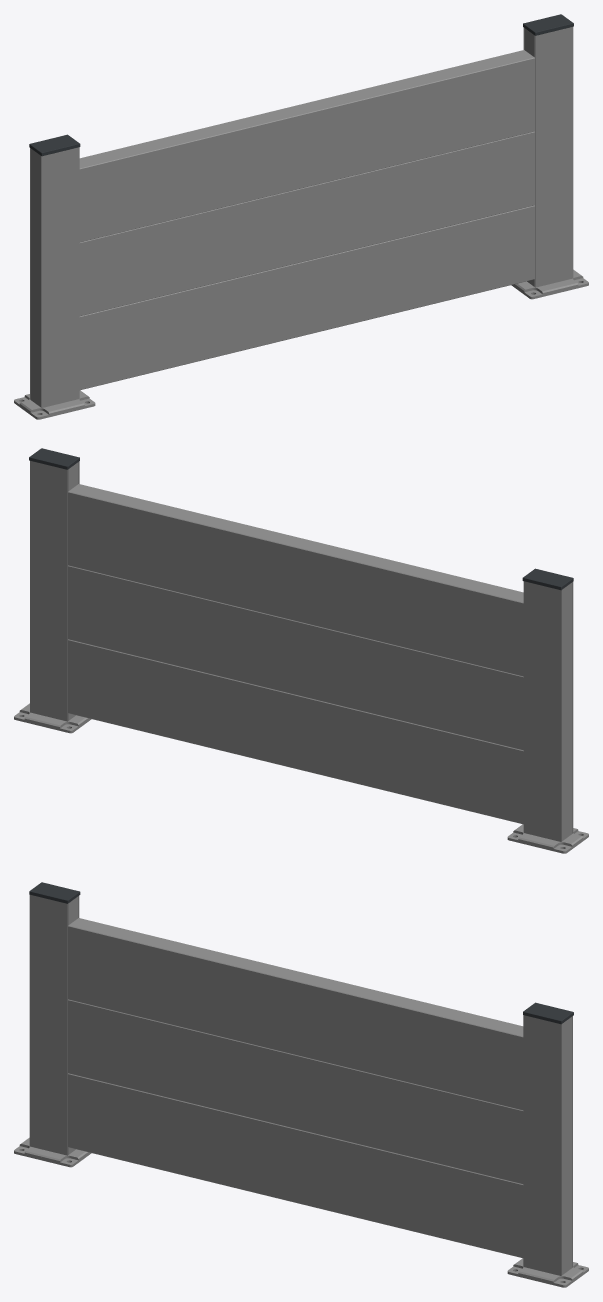
3 renders of one model, top to bottom at view 1: azimuth 30°, elevation 25°; view 2: azimuth 150°, elevation 25°; view 3: azimuth 330°, elevation 25°, orthographic.
Parts seen in each view (by area): view 1: Rectangle060, Rectangle059, Rectangle061, base011, base010, Box019, Box020; view 2: Rectangle060, Rectangle059, Rectangle061, base011, base010, Box019, Box020; view 3: Rectangle060, Rectangle061, Rectangle059, base010, base011, Box019, Box020.
Part boxes in pixels (x1,y1,x2,y2): Rectangle060: (79,50,534,390); Rectangle059: (30,147,79,407); Rectangle061: (523,27,573,287); base011: (14,390,95,419); base010: (511,269,588,299); Box019: (29,134,80,156); Box020: (523,14,573,35); Rectangle060: (68,484,523,824); Rectangle059: (523,581,573,841); Rectangle061: (30,461,79,721); base011: (507,824,588,853); base010: (14,703,91,733); Box019: (522,568,573,590); Box020: (29,448,79,469); Rectangle060: (68,918,523,1258); Rectangle061: (523,1015,572,1275); Rectangle059: (29,895,79,1155); base010: (507,1258,588,1287); base011: (14,1137,91,1167); Box019: (29,882,80,903); Box020: (523,1002,573,1024).
Size of the model in its own units: 1171 by 527 by 90.02.
2 materials, 1 textured.
